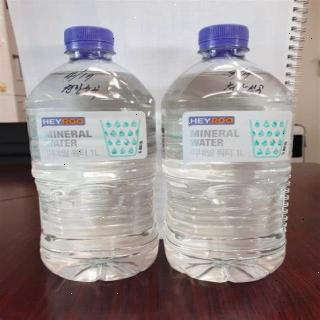Plastic-bottle: (156, 11, 316, 291), (22, 16, 170, 291)
